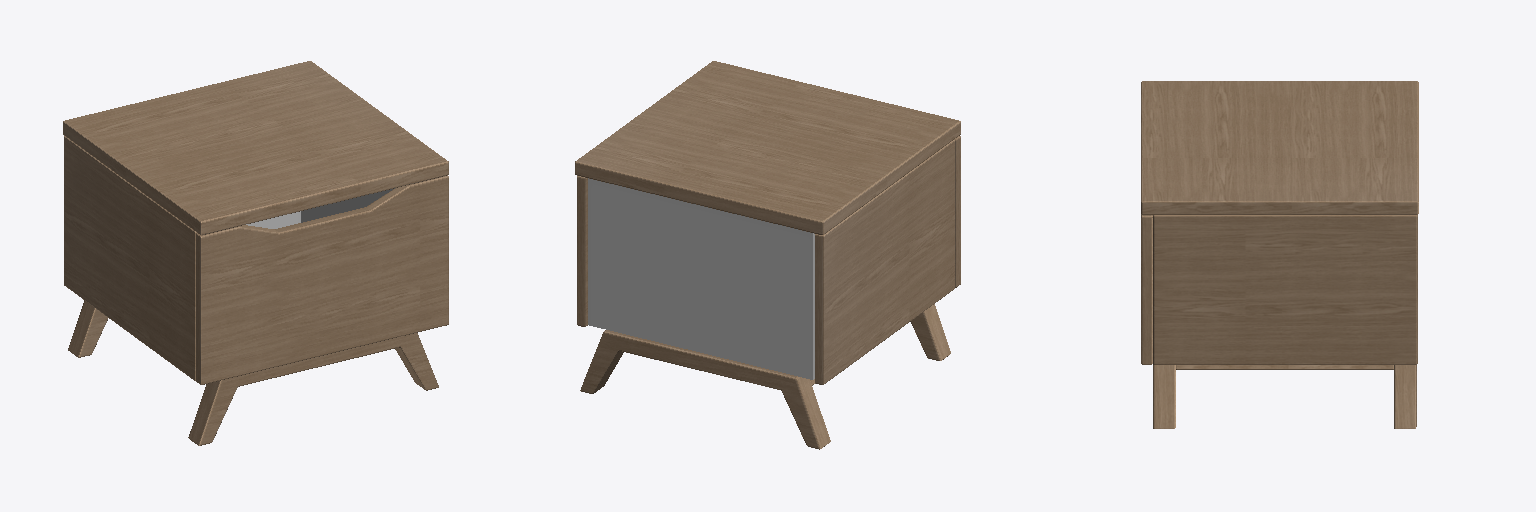
3 renders of one model, left to right at view 1: azimuth 30°, elevation 25°; view 2: azimuth 150°, elevation 25°; view 3: azimuth 270°, elevation 25°, orthographic.
Size of the model in its own units: 0.6215 by 0.5485 by 0.5999.
Materials: 1 (1 with a texture image).